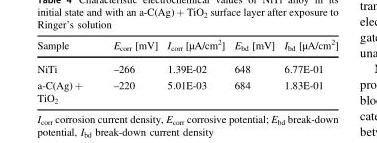table: (36, 36, 337, 104)
table column: (161, 36, 228, 104), (97, 36, 161, 104), (36, 36, 97, 104), (278, 36, 337, 104), (228, 36, 278, 104)
table column header: (36, 36, 337, 56)
table row: (36, 76, 337, 104), (36, 36, 337, 56), (36, 56, 337, 76)
